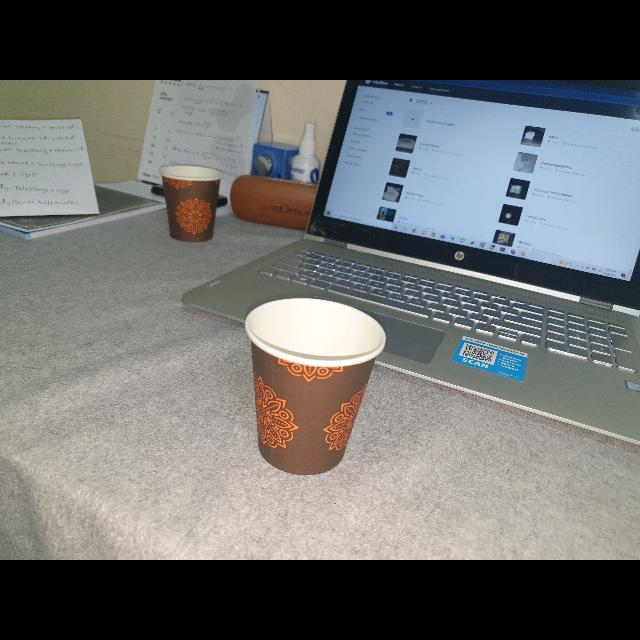trash: (237, 297, 395, 481), (159, 160, 229, 244)
